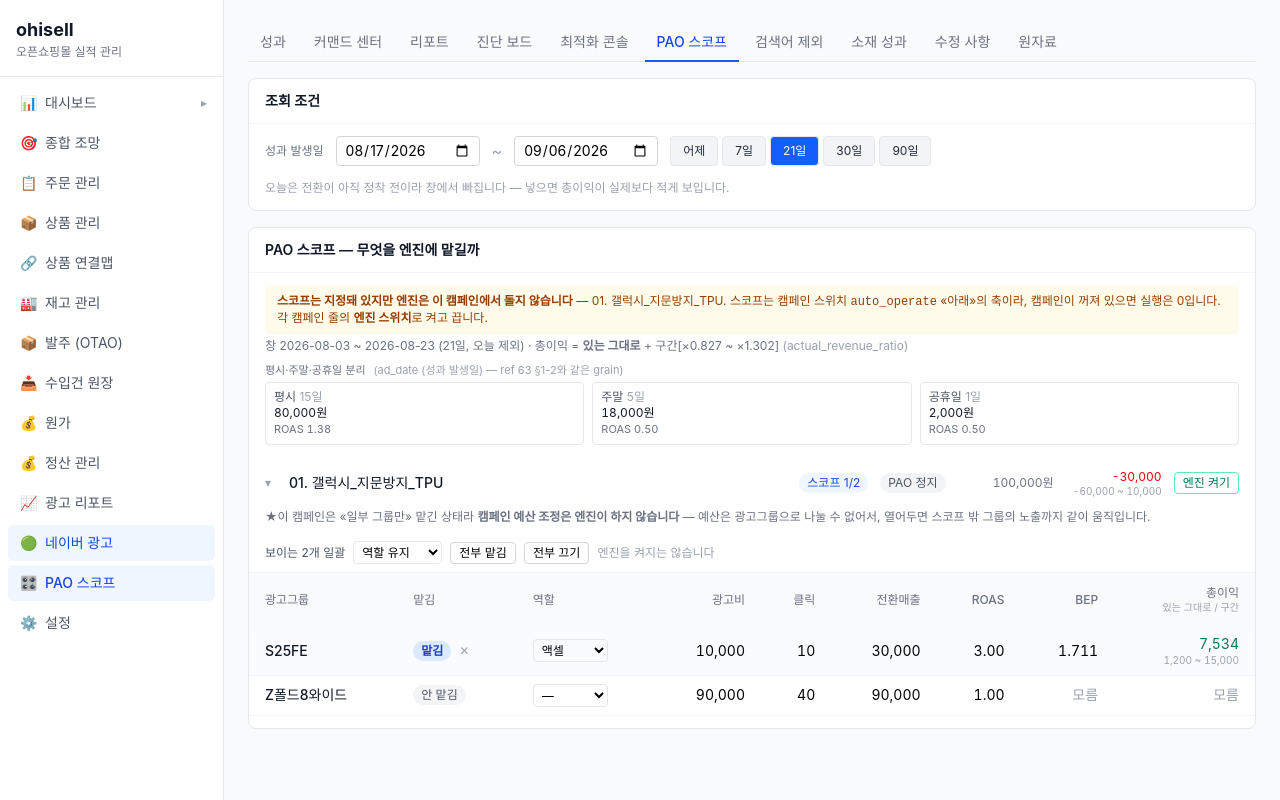
★H1 엔진 스위치 — 켜는 손·끄는 손이 실제로 있고, 켜기 전에 무엇이 열리는지 말한다 › 경고 0건이어도 확인창은 뜬다 — 「안 했다」와 「깨끗하다」가 같아 보이면 안 된다(교훈 #123)
The image size is (1280, 800).
Click the button "엔진 켜기" at (1206,483), box top-left (1174, 472), bottom-right (1239, 494)
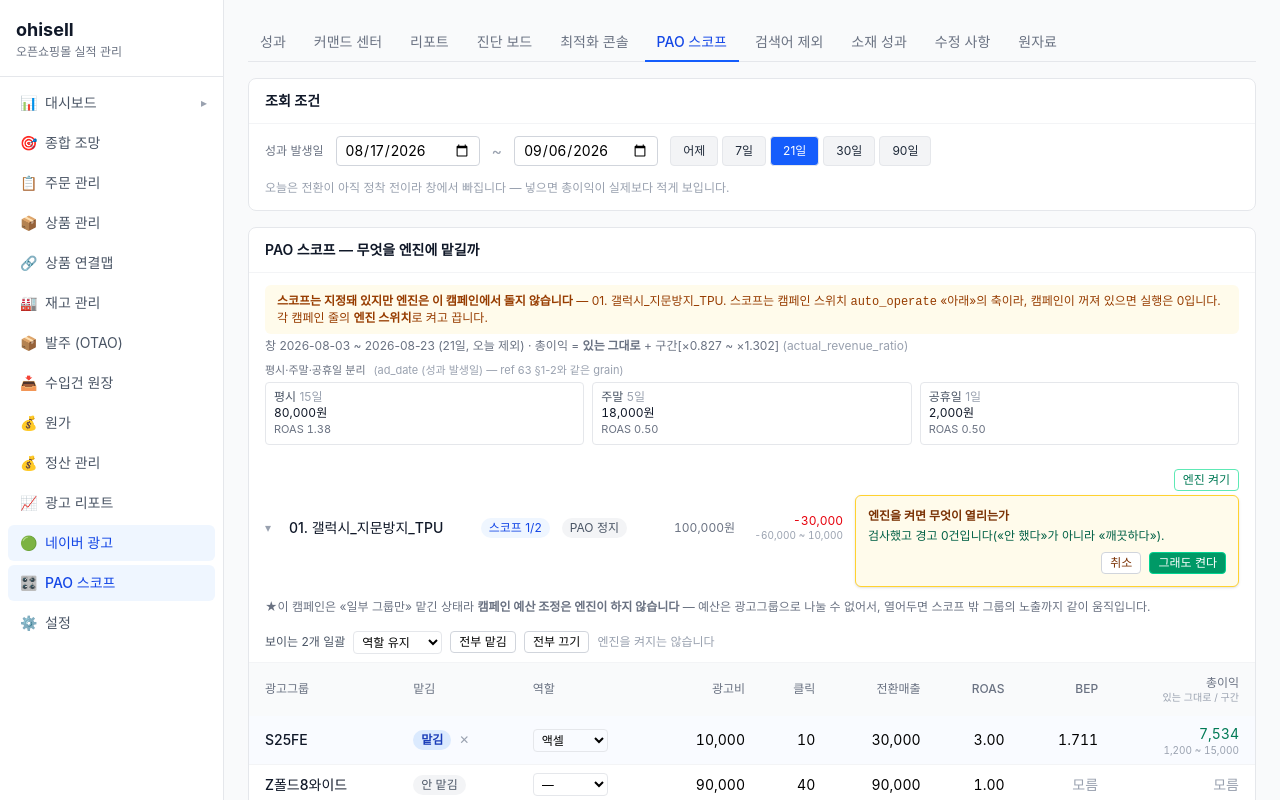
Result: the text "검사했고 경고 0건입니다(«안 했다»가 아니라 «깨끗하다»)." is shown at top-left (868, 528), bottom-right (1164, 542)
